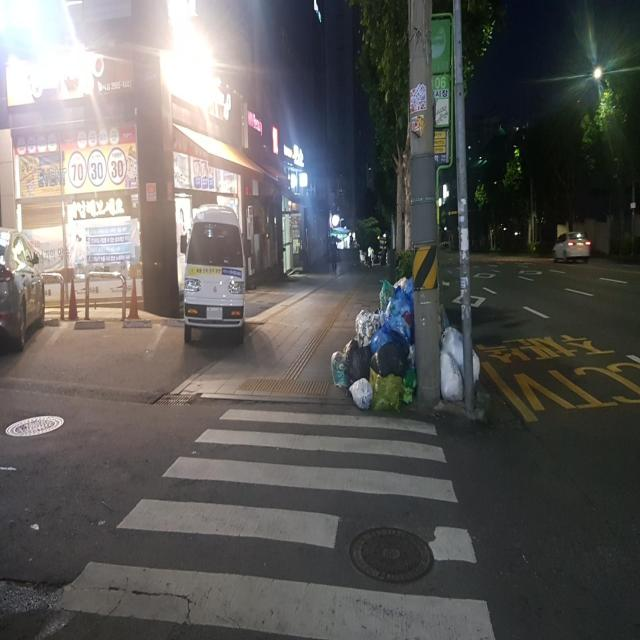횡단보도: (51, 406, 496, 640)
